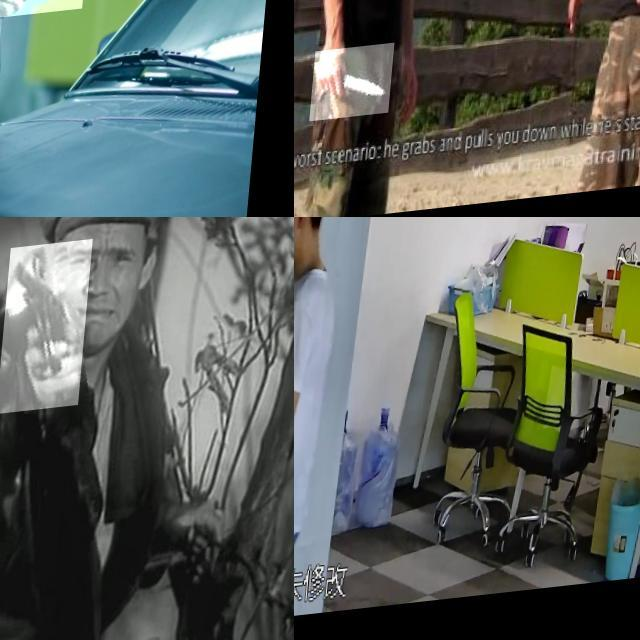-: (320, 49, 404, 126)
gun-knife-thesis - v11 Yolov5 augmented: (1, 247, 96, 420), (0, 0, 98, 80), (294, 253, 325, 360)
